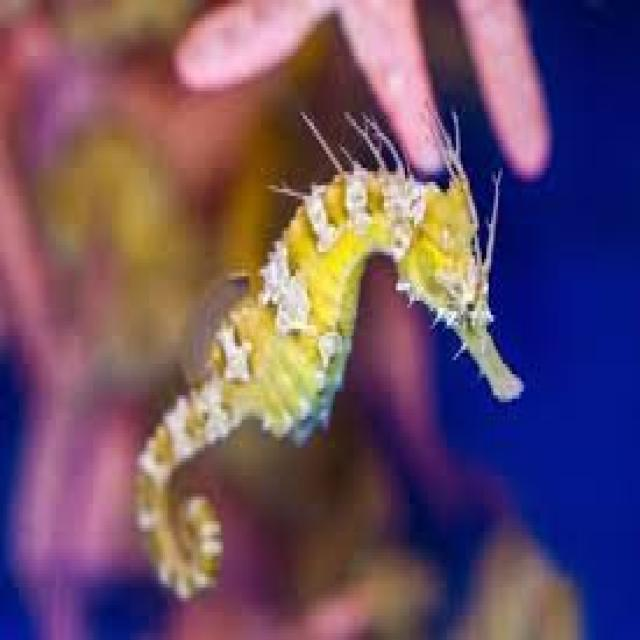seahorse: (140, 119, 517, 591)
